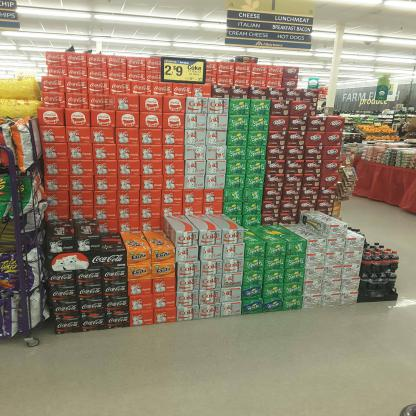Void: (98, 220, 168, 244)
